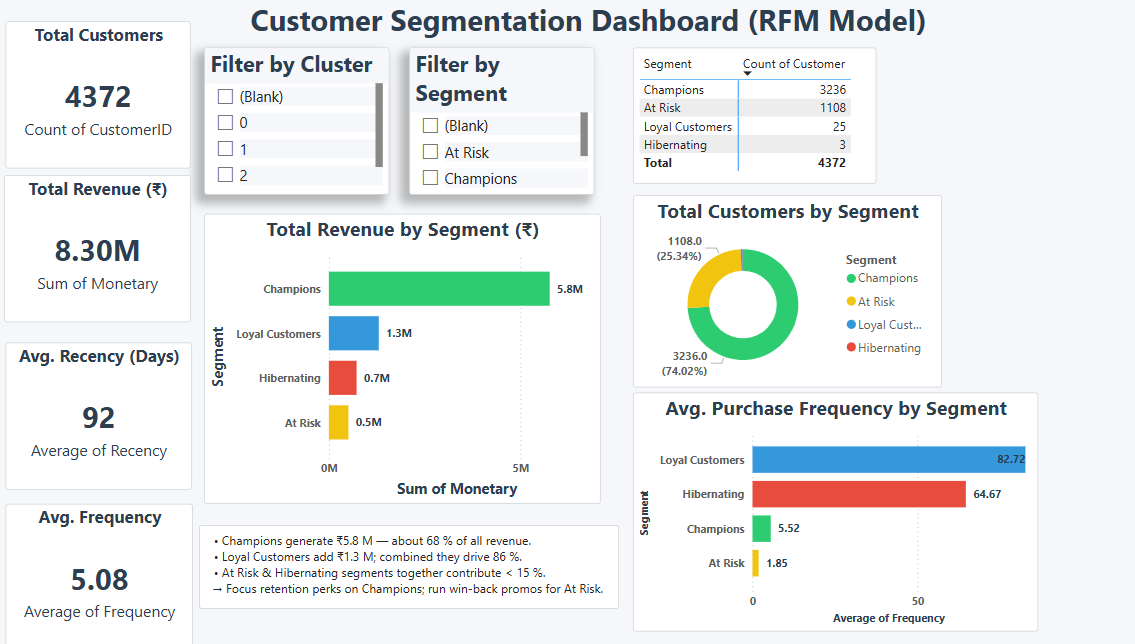

What the dashboard file says about the page in this screenshot:
{"tool":"powerbi","page":{"name":"Customer Segmentation Overview (RFM Model)","canvas":[1280,720],"ordinal":0},"visuals":[{"type":"textbox","box":[251.1,0,794.5,57.6],"z":0},{"type":"slicer","title":"Filter by Cluster","fields":{"Values":["Sheet1.Cluster"]},"box":[226.4,57.6,203.1,161.9],"z":1000},{"type":"slicer","title":"Filter by Segment","fields":{"Values":["Sheet1.Segment"]},"box":[451.5,57.6,203.1,161.9],"z":2000},{"type":"card","title":"Total Customers","fields":{"Values":["Count(Sheet1.CustomerID)"]},"box":[8.2,28.8,203.1,161.9],"z":3000},{"type":"card","title":"Total Revenue (₹)","fields":{"Values":["Sum(Sheet1.Monetary)"]},"box":[6.9,197.6,204.5,161.9],"z":4000},{"type":"card","title":"Avg. Recency (Days)","fields":{"Values":["Avg(Sheet1.Recency)"]},"box":[8.2,381.5,204.5,161.9],"z":5000},{"type":"card","title":"Avg. Frequency","fields":{"Values":["Avg(Sheet1.Frequency)"]},"box":[8.2,558.1,205.8,161.9],"z":6000},{"type":"clusteredBarChart","title":"Total Revenue by Segment (₹)","fields":{"Y":["Sum(Sheet1.Monetary)"],"Category":["Sheet1.Segment"]},"box":[226.4,240.1,435,318.4],"z":7000},{"type":"textbox","box":[220.9,581.8,461.1,91.9],"z":8000},{"type":"donutChart","title":"Total Customers by Segment","fields":{"Category":["Sheet1.Segment"],"Y":["Count(Sheet1.CustomerID)"]},"box":[697.1,219.6,338.9,211.3],"z":9000},{"type":"pivotTable","fields":{"Rows":["Sheet1.Segment"],"Values":["Count(Sheet1.CustomerID)"]},"box":[697.1,57.6,267.6,149.6],"z":10000},{"type":"clusteredBarChart","title":"Avg. Purchase Frequency by Segment","fields":{"Category":["Sheet1.Segment"],"Y":["Avg(Sheet1.Frequency)"]},"box":[697.1,436.4,444.6,262.1],"z":11000}]}

Visuals, with their boxes in screenshot pixels (x1, y1, x2, y2), scaled from the page's 1280x720 canvas onto the 1135x644 screenshot:
textbox: region(223, 0, 927, 52)
"Filter by Cluster" slicer: region(201, 52, 381, 196)
"Filter by Segment" slicer: region(400, 52, 580, 196)
"Total Customers" card: region(7, 26, 187, 171)
"Total Revenue (₹)" card: region(6, 177, 187, 322)
"Avg. Recency (Days)" card: region(7, 341, 189, 486)
"Avg. Frequency" card: region(7, 499, 190, 643)
"Total Revenue by Segment (₹)" clusteredBarChart: region(201, 215, 586, 500)
textbox: region(196, 520, 605, 603)
"Total Customers by Segment" donutChart: region(618, 196, 919, 385)
pivotTable - Sheet1.Segment x Count(Sheet1.CustomerID): region(618, 52, 855, 185)
"Avg. Purchase Frequency by Segment" clusteredBarChart: region(618, 390, 1012, 625)
